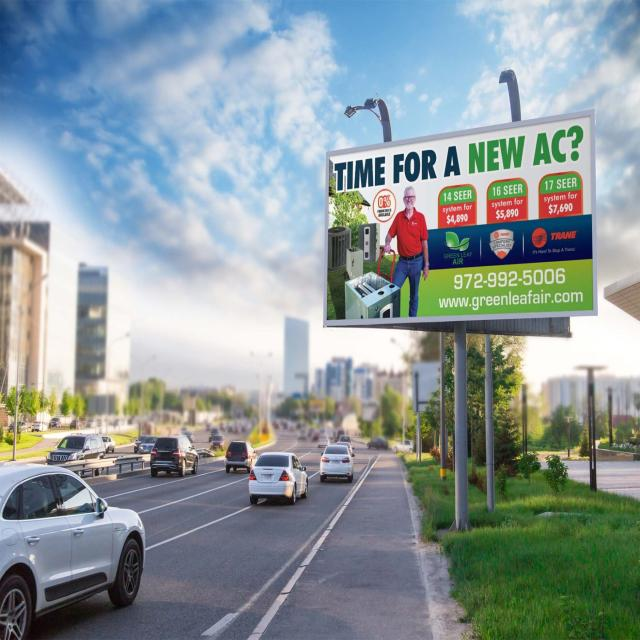Billboard_RHS: (319, 105, 611, 335), (318, 99, 320, 101)
Roadcorner: (392, 448, 443, 636), (88, 468, 150, 487)
Roadlane: (248, 450, 386, 637), (149, 495, 258, 554), (135, 472, 248, 517), (98, 464, 222, 493)
